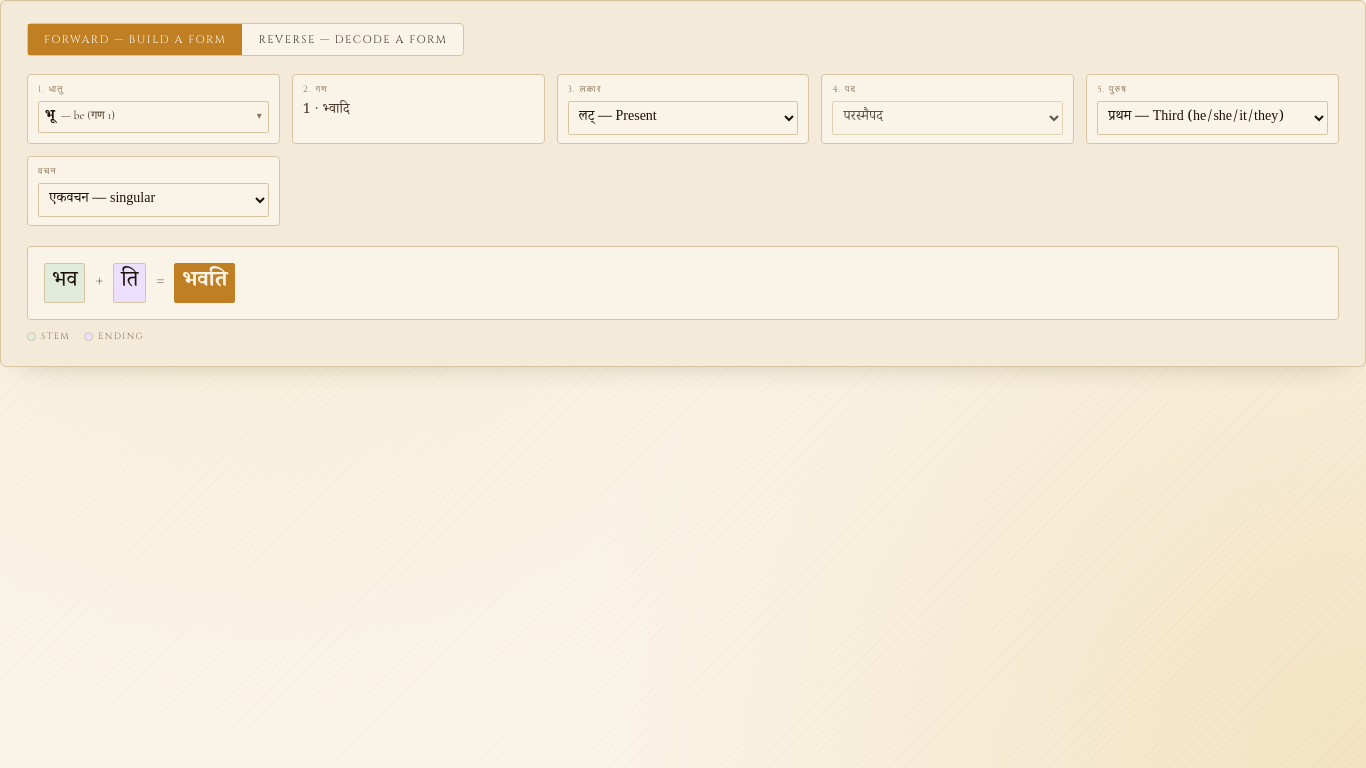
StackBuilder — mode toggle › clicking Reverse switches to the reverse decoder
Click the button "Reverse — decode a form". click: (353, 40)
box: [242, 24, 464, 55]
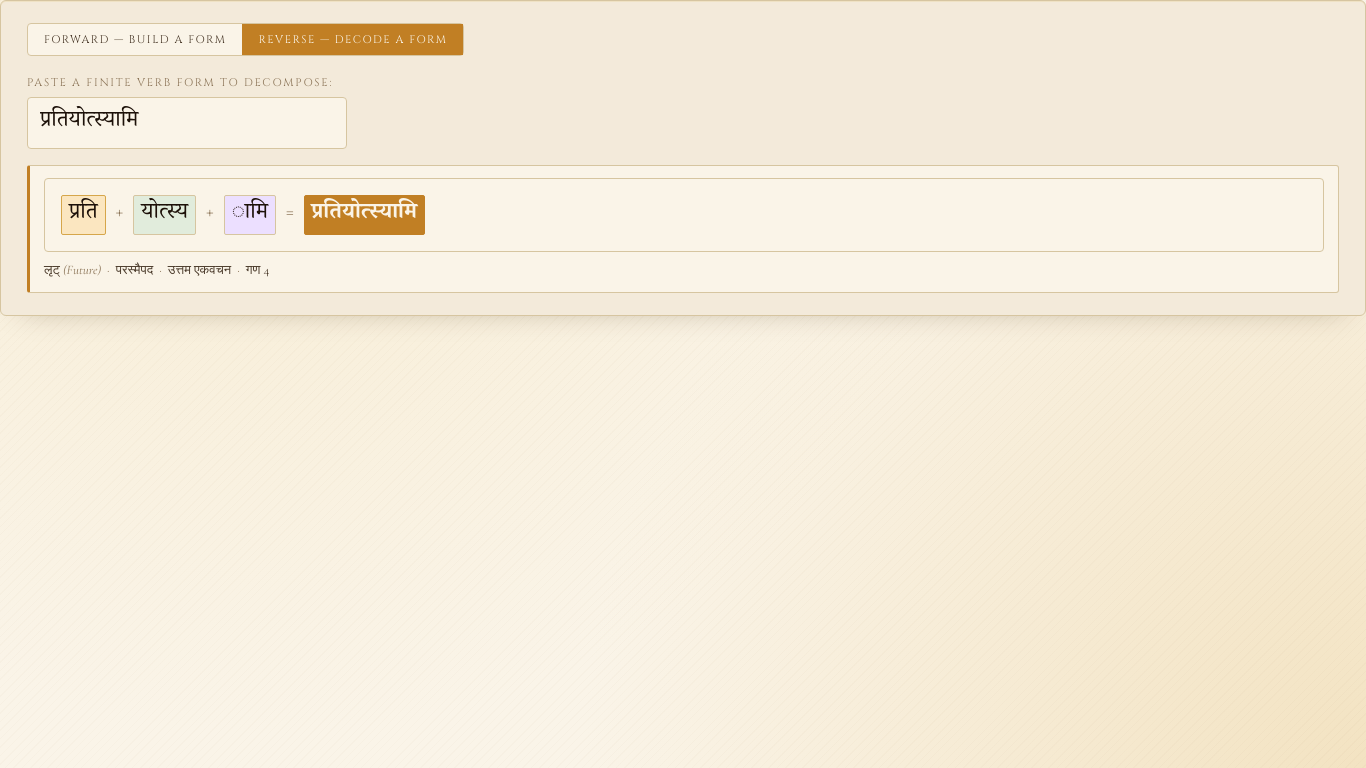
Result: the text "Paste a finite verb form to decompose:" is shown at [27, 75, 333, 90]
